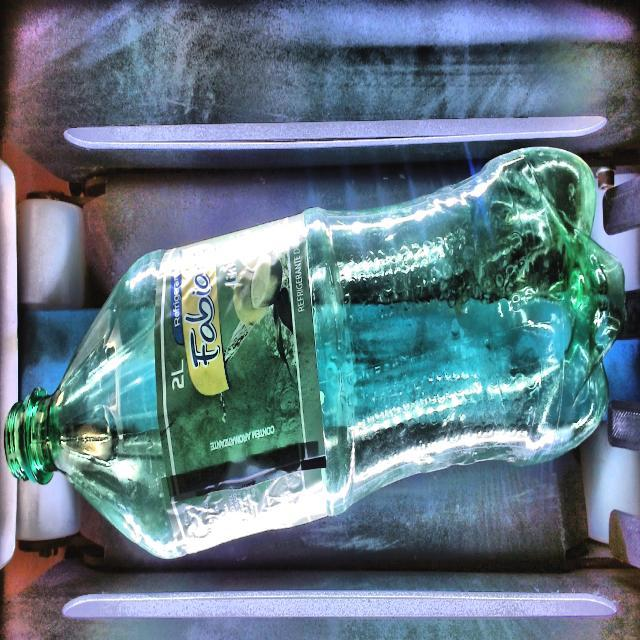bottom: (318, 148, 624, 513)
label: (155, 216, 326, 559)
neck: (11, 253, 184, 558)
